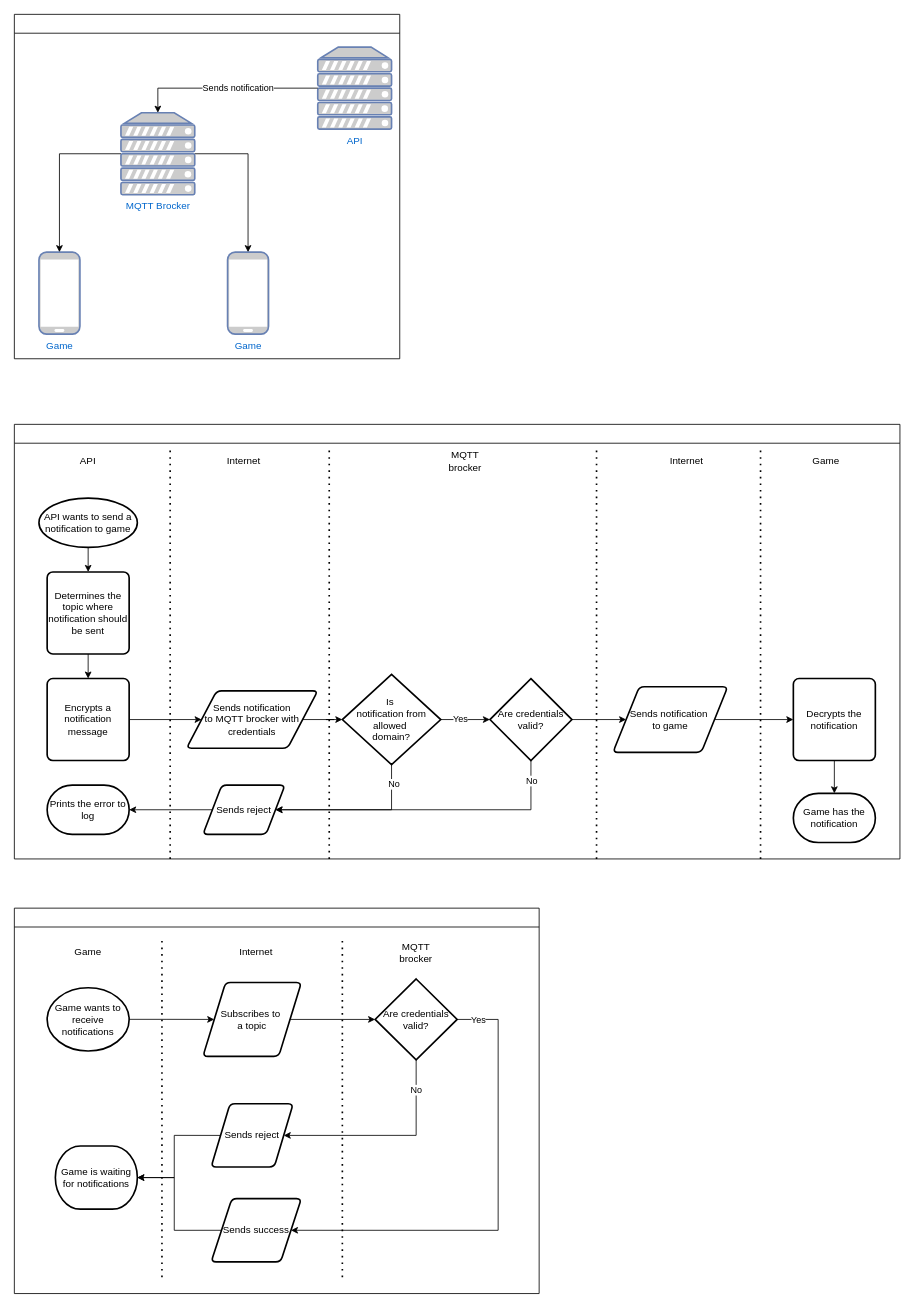
The diagram is 914 pixels wide and 1308 high, and some of its shapes have lost their labels. The shapes that lost their labels are listed below. From the top down, each one's centre as x and y in pixels, then its label:
At (x=207, y=186): "Notification sending idea".
At (x=457, y=641): "Notification sending process".
At (x=276, y=1100): "Notification waiting process".
